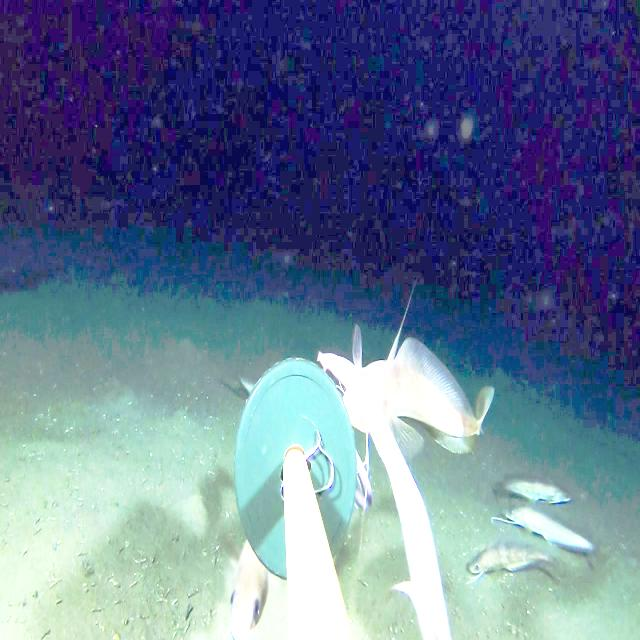eel: (310, 321, 461, 639), (351, 441, 378, 534)
fish: (360, 334, 502, 454), (465, 536, 555, 600), (503, 512, 597, 568), (223, 538, 273, 640), (495, 473, 585, 515)
pole: (236, 366, 359, 599)
